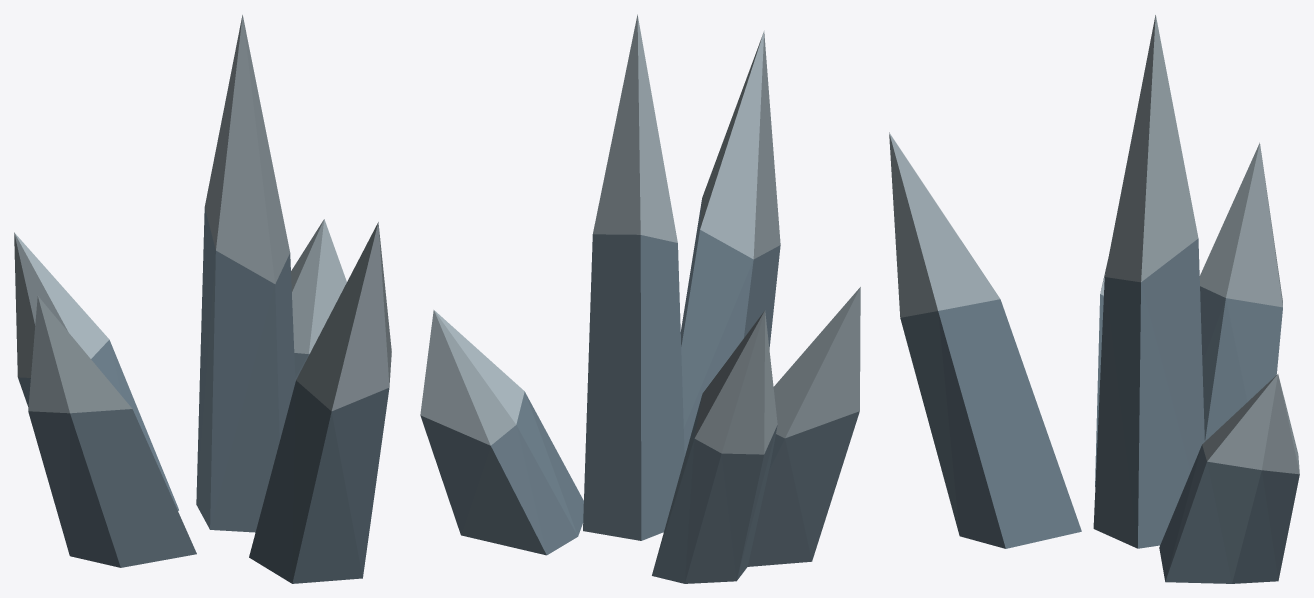
The picture shows the model from 3 angles, left to right: view 1: azimuth 30°, elevation 25°; view 2: azimuth 150°, elevation 25°; view 3: azimuth 270°, elevation 25°; orthographic projection. The views are drawn at different scales.
Visible parts, largest first — view 1: glacier-crystals; view 2: glacier-crystals; view 3: glacier-crystals.
Boxes of the visible parts, x1,y1,x2,y2 form: glacier-crystals: [14, 15, 391, 583]; glacier-crystals: [420, 14, 860, 583]; glacier-crystals: [889, 15, 1299, 583].
Size of the model in its own units: 0.766 by 1 by 0.7296.
